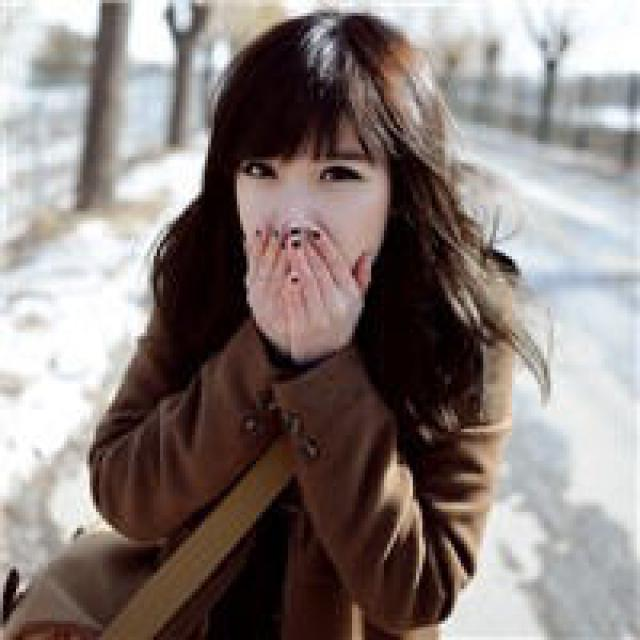nomask: (232, 100, 389, 310)
